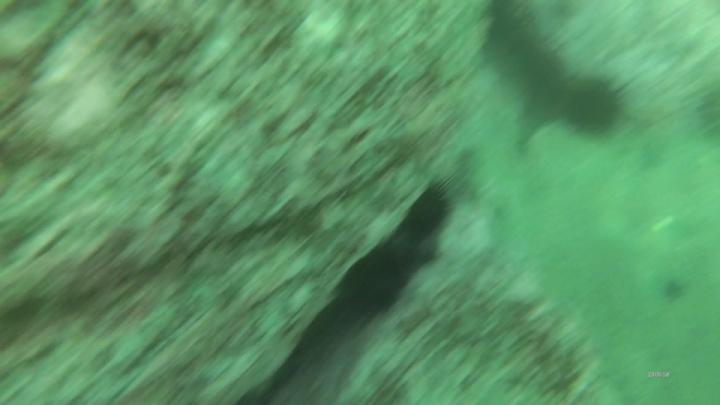echinus: (346, 237, 416, 315), (565, 71, 625, 138), (406, 179, 452, 245)
